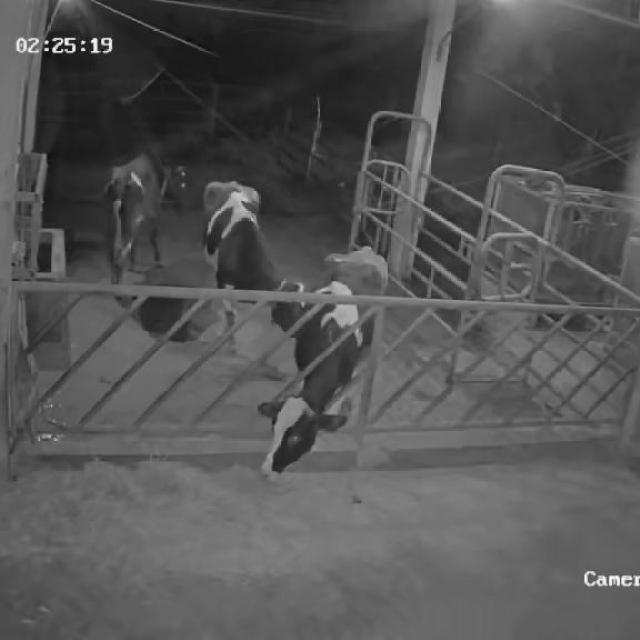feeding: (253, 244, 392, 486)
standing: (200, 179, 314, 351), (105, 153, 168, 298)
